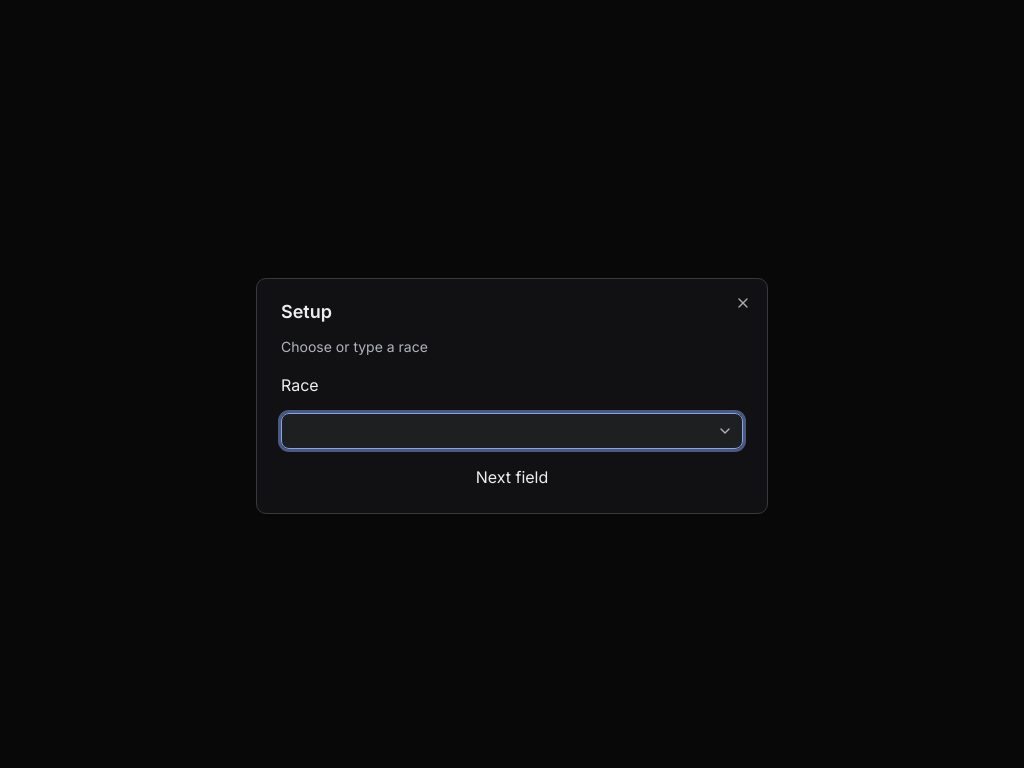
search and pointer selection preserve custom input, and Tab dismisses without choosing
Later steps or results of the test are not shown.
Focus the dropdown labelled "Race". click: [512, 431]
box: x1=281 y1=413 x2=743 y2=449
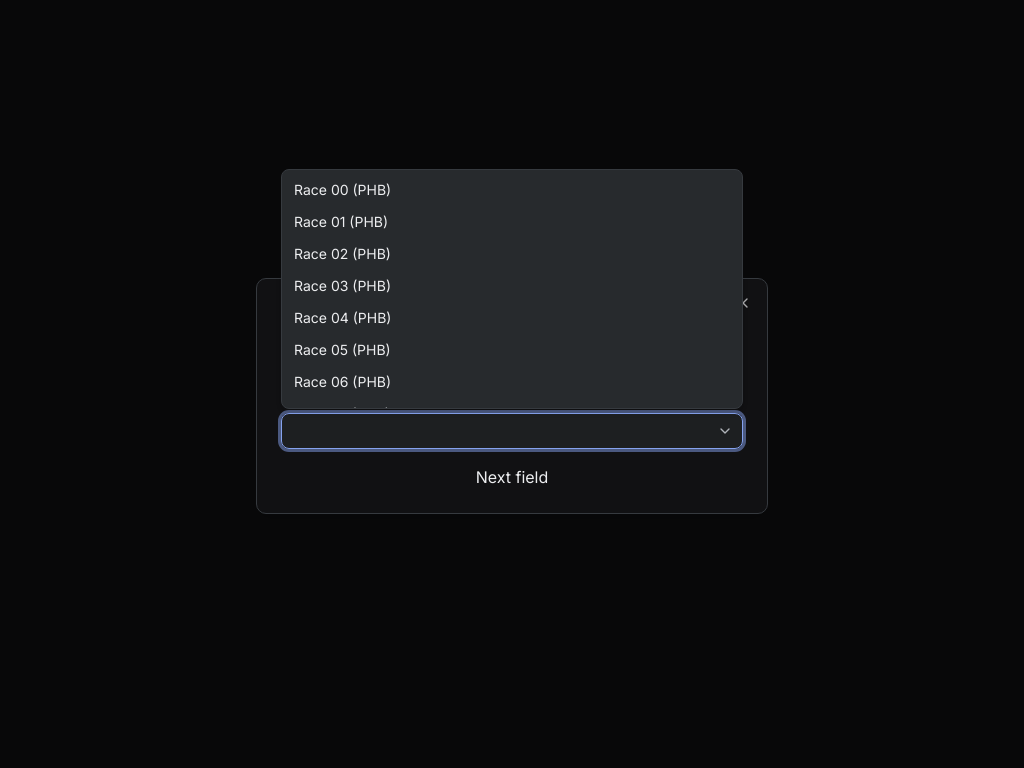
Expected: the list is shown, x1=281 y1=169 x2=743 y2=409
Type "Race 42" into the dropdown labelled "Race". click: [512, 431]
box: x1=281 y1=413 x2=743 y2=449
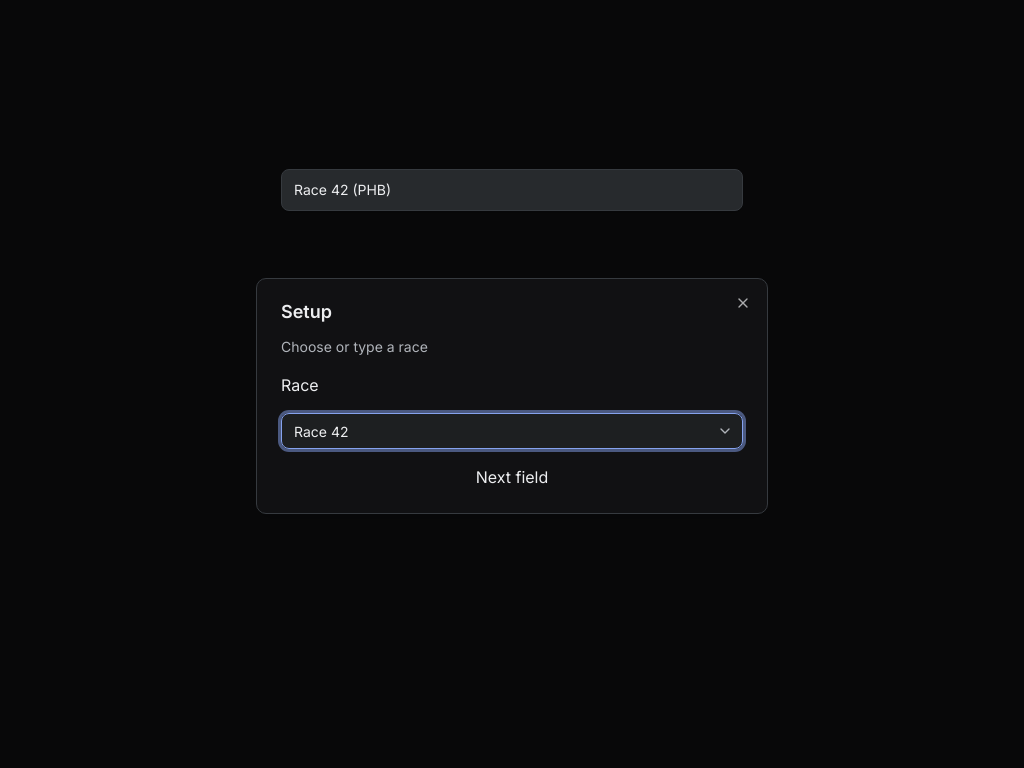
Result: the number of options is 1 at x1=286 y1=174 x2=728 y2=206
